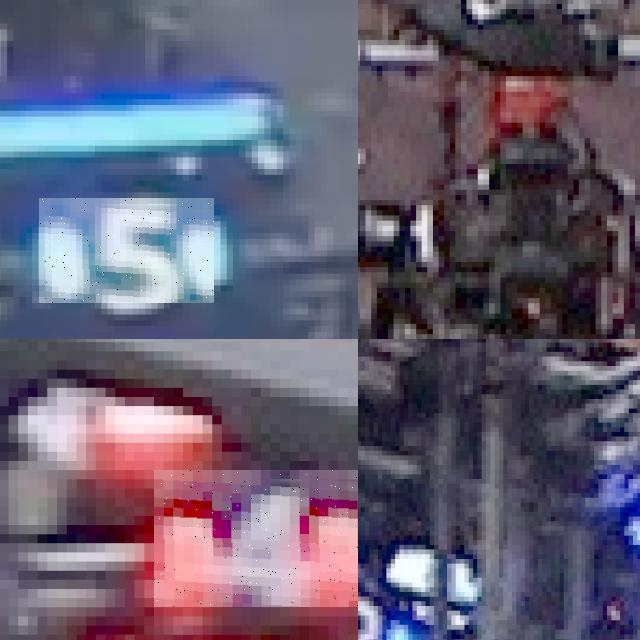B2: (358, 582, 427, 640)
B5: (39, 198, 214, 303)
R4: (154, 470, 358, 607)
